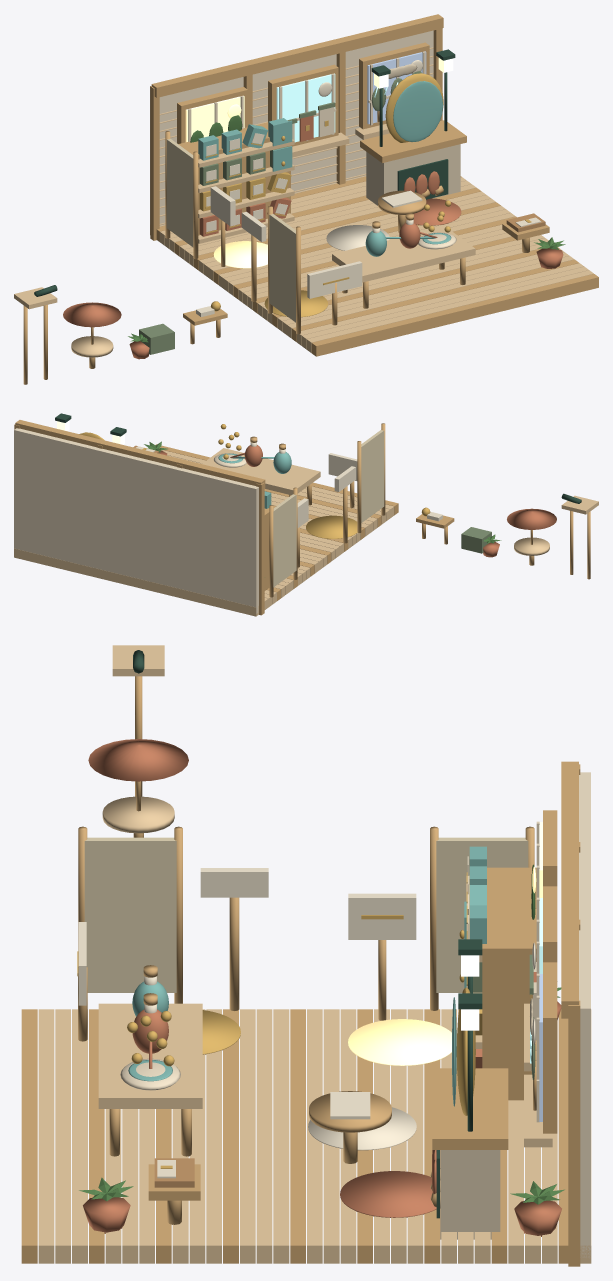
File: cognition.glb
3 renders of one model, top to bottom at view 1: azimuth 30°, elevation 25°; view 2: azimuth 150°, elevation 25°; view 3: azimuth 270°, elevation 25°, orthographic. The views are drawn at different scales.
Visible parts, largest first — view 1: StudyShell_lightwood, StudyShell_wood, StudyShell_cream, PrivateGate_linen, LabBench_lightwood, FireplaceMirror_stone, FireplaceMirror_water, BehaviorShelf_lightwood, PrivateGate_wood, FireplaceMirror_wood, StateWindow_1_work, FireplaceMirror_ink (+26 smaller); view 2: StudyShell_cream, StudyShell_lightwood, StudyShell_wood, PrivateGate_linen, LabBench_lightwood, PrivateGate_wood, LightPool_1_gold, Style_I_terracotta, Style_S_roof, Style_I_lightwood, Style_D_wood, ShareExit_paper (+7 smaller); view 3: StudyShell_lightwood, StudyShell_wood, PrivateGate_linen, BehaviorShelf_wood, LabBench_lightwood, FireplaceMirror_wood, StudyShell_cream, FireplaceMirror_stone, PrivateGate_wood, LightPool_0_morning, LightPool_3_terracotta, Style_I_terracotta (+22 smaller).
Part boxes in pixels (x1=…): StudyShell_lightwood: x1=150, y1=47, x2=593, y2=352; StudyShell_wood: x1=150, y1=14, x2=598, y2=356; StudyShell_cream: x1=150, y1=30, x2=433, y2=225; PrivateGate_linen: x1=166, y1=138, x2=295, y2=322; LabBench_lightwood: x1=332, y1=226, x2=475, y2=282; FireplaceMirror_stone: x1=366, y1=144, x2=460, y2=205; FireplaceMirror_water: x1=393, y1=81, x2=443, y2=141; BehaviorShelf_lightwood: x1=198, y1=139, x2=294, y2=243; PrivateGate_wood: x1=165, y1=131, x2=300, y2=334; FireplaceMirror_wood: x1=360, y1=120, x2=466, y2=197; StateWindow_1_work: x1=276, y1=73, x2=335, y2=142; FireplaceMirror_ink: x1=371, y1=49, x2=455, y2=199; StudyShell_cream: x1=14, y1=428, x2=258, y2=613; StudyShell_lightwood: x1=14, y1=450, x2=394, y2=616; StudyShell_wood: x1=14, y1=420, x2=398, y2=615; PrivateGate_linen: x1=273, y1=430, x2=384, y2=587; LabBench_lightwood: x1=202, y1=448, x2=320, y2=495; PrivateGate_wood: x1=269, y1=423, x2=385, y2=597; LightPool_1_gold: x1=306, y1=515, x2=357, y2=538; Style_I_terracotta: x1=507, y1=508, x2=556, y2=529; Style_S_roof: x1=461, y1=527, x2=491, y2=553; Style_I_lightwood: x1=514, y1=537, x2=549, y2=555; Style_D_wood: x1=570, y1=511, x2=590, y2=579; ShareExit_paper: x1=328, y1=453, x2=357, y2=480; StudyShell_lightwood: x1=38, y1=1009, x2=591, y2=1263; StudyShell_wood: x1=21, y1=761, x2=580, y2=1266; PrivateGate_linen: x1=84, y1=837, x2=528, y2=992; BehaviorShelf_wood: x1=482, y1=867, x2=536, y2=1100; LabBench_lightwood: x1=98, y1=1003, x2=202, y2=1108; FireplaceMirror_wood: x1=430, y1=1068, x2=508, y2=1208; StudyShell_cream: x1=579, y1=772, x2=590, y2=1258; FireplaceMirror_stone: x1=440, y1=1150, x2=500, y2=1239; PrivateGate_wood: x1=78, y1=826, x2=534, y2=1010; LightPool_0_morning: x1=348, y1=1019, x2=451, y2=1065; LightPool_3_terracotta: x1=340, y1=1171, x2=436, y2=1217; Style_I_terracotta: x1=88, y1=739, x2=188, y2=781.
Bounding box in the file's own units: 13.52 × 3.65 × 7.13.
